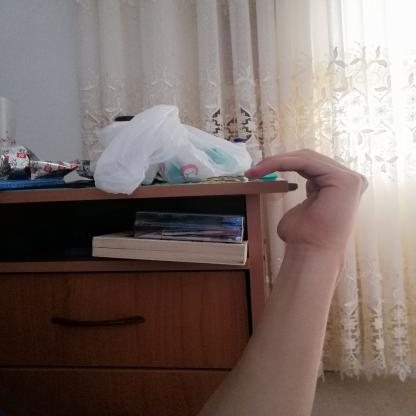HAA: (232, 138, 385, 260)
